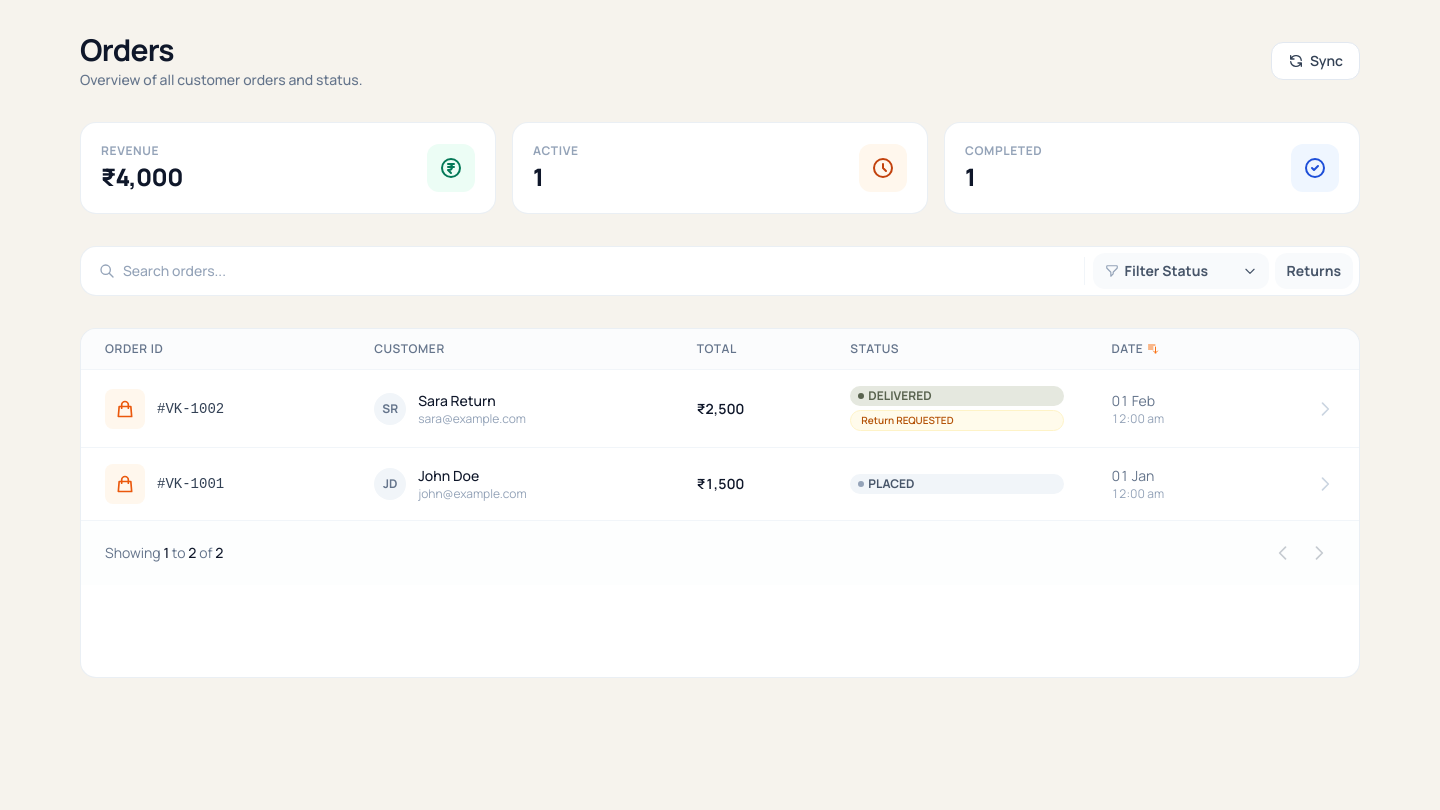
Scenario: AdminOrders Component › filters to only orders with an active return
This screenshot has width=1440, height=810.
Click the button "Returns": (1314, 271) [1275,253,1353,289]
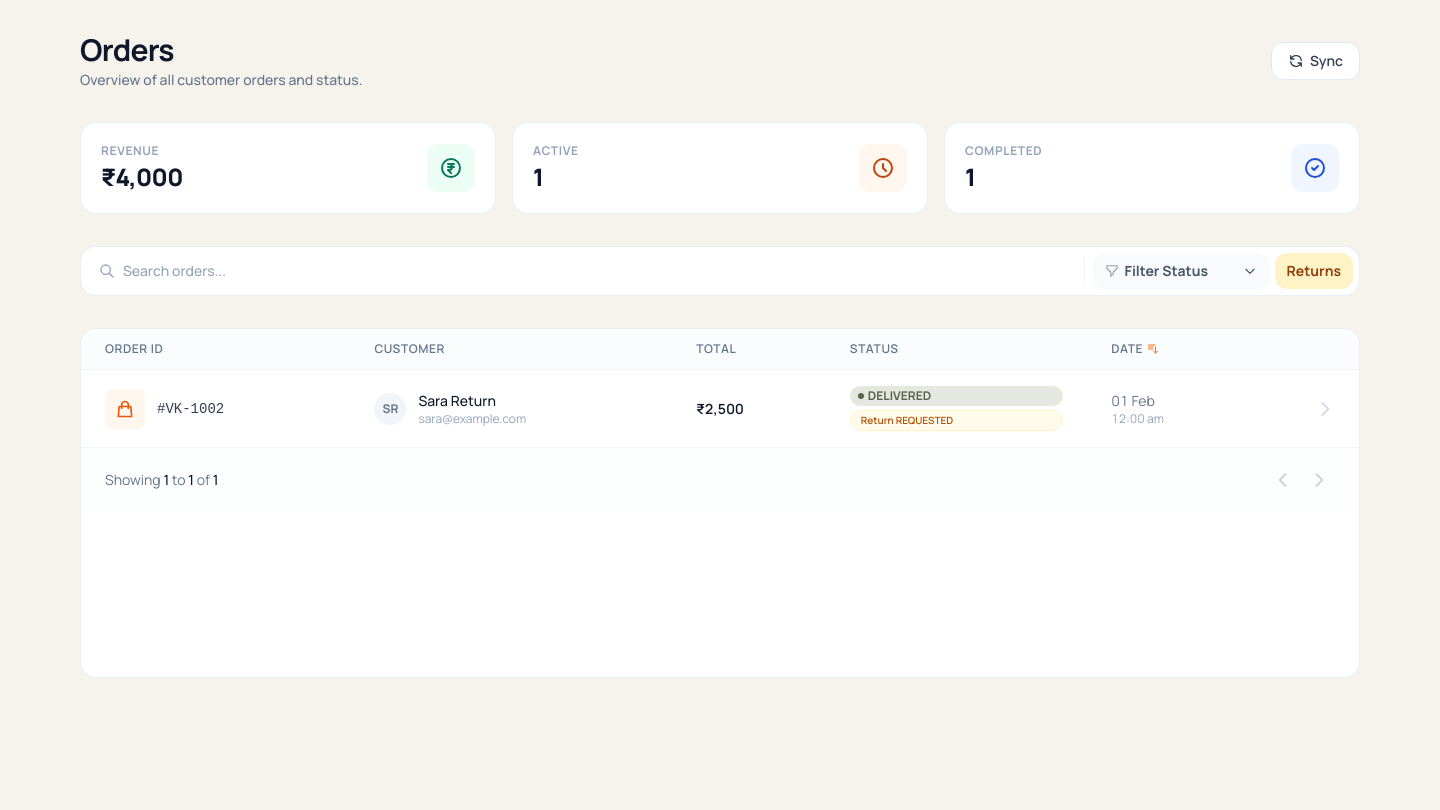
Expected: the text "Sara Return" is shown, [418,390,496,410]
Expected: the text "John Doe" is gone
